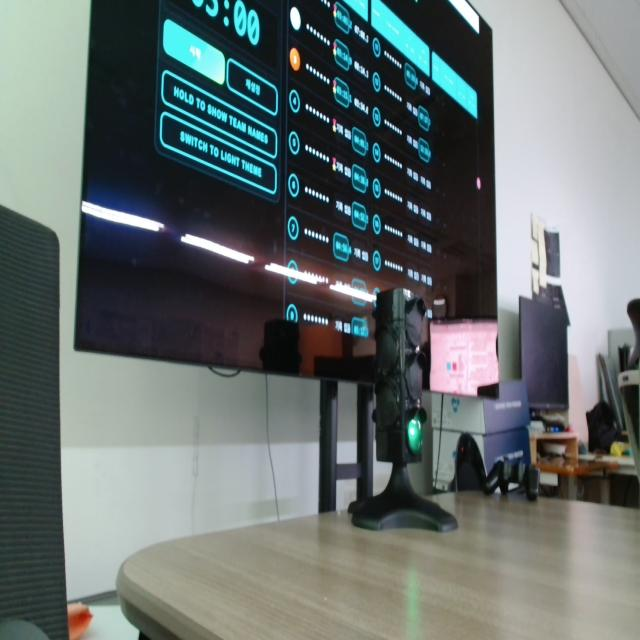green_light: (408, 418, 422, 454)
